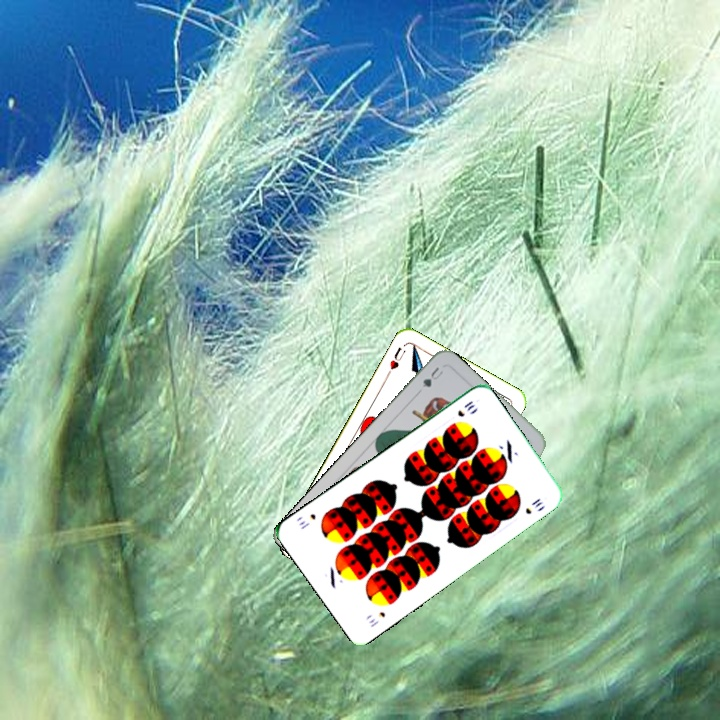GU: (418, 363, 446, 390)
HU: (383, 343, 408, 379)
S10: (453, 396, 478, 420), (364, 607, 388, 630)
